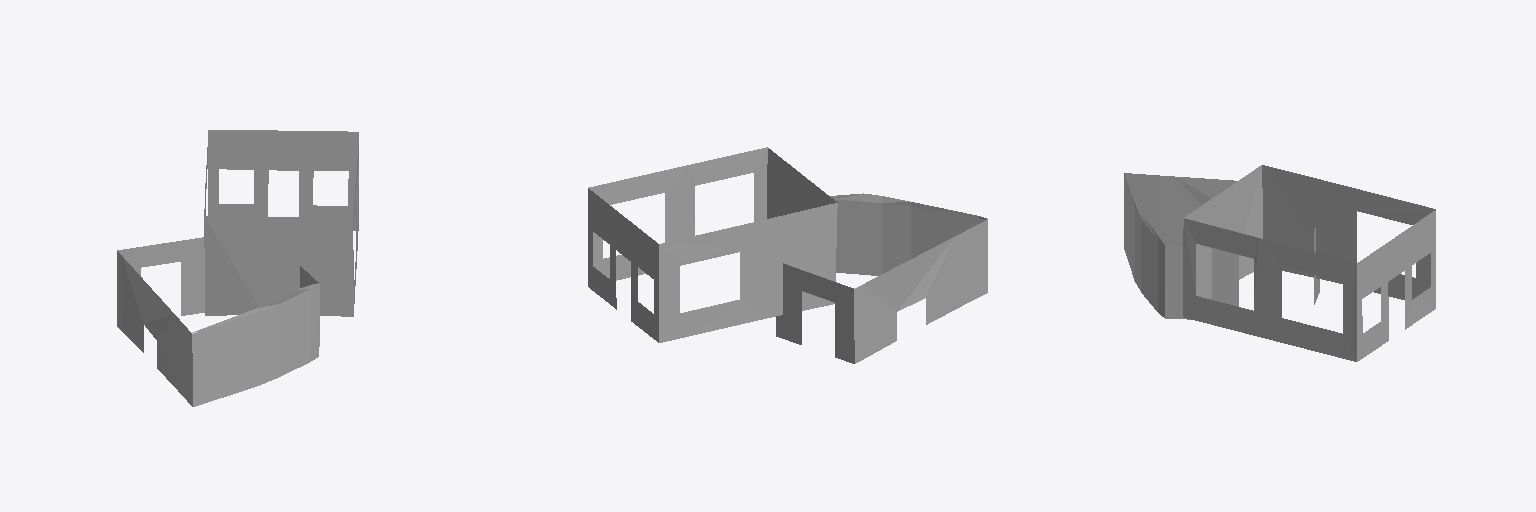
The model's file is venice_33.obj.
3 views of the same model, side by side, from view 1: azimuth 30°, elevation 25°; view 2: azimuth 150°, elevation 25°; view 3: azimuth 270°, elevation 25° (orthographic).
Size of the model in its own units: 10.48 by 4.36 by 10.02.